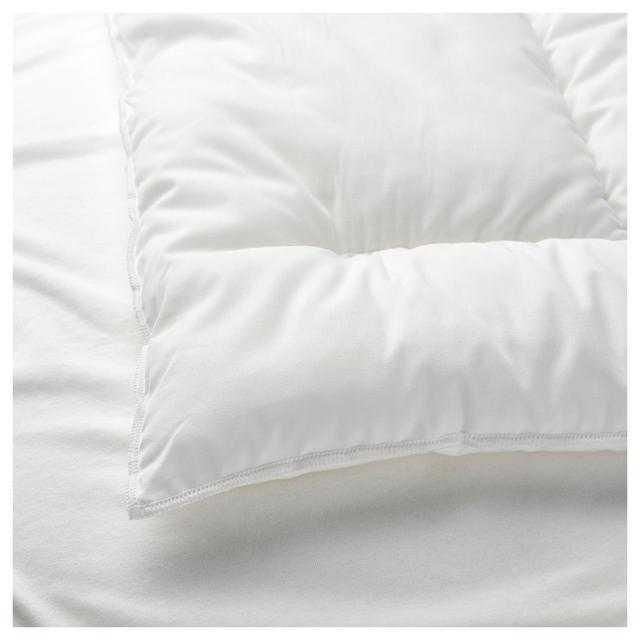pillow: (105, 10, 627, 518)
